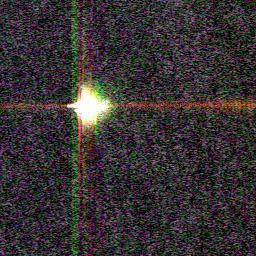Ship: (69, 86, 117, 122)
